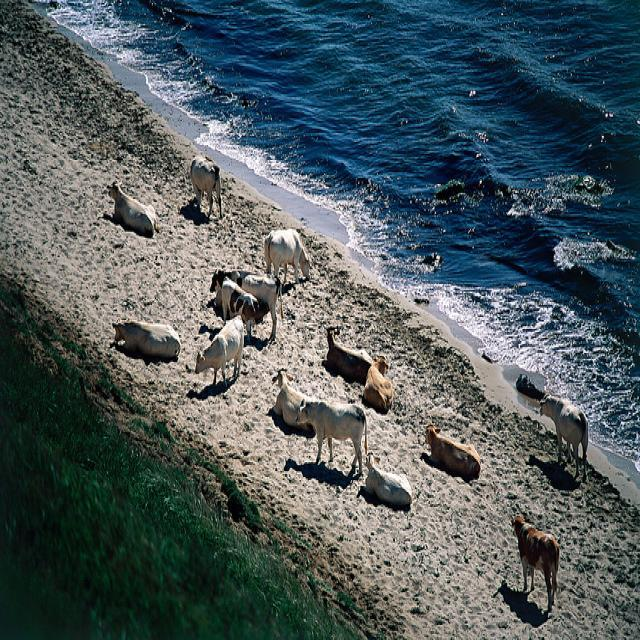cow: (244, 265, 569, 601), (293, 395, 366, 474), (208, 265, 277, 341), (511, 510, 557, 610), (538, 390, 587, 480), (194, 312, 248, 392), (102, 179, 156, 235), (271, 366, 314, 434), (110, 315, 180, 356), (362, 449, 412, 506), (324, 327, 372, 383), (264, 229, 309, 283), (189, 153, 222, 216), (219, 278, 259, 323), (363, 354, 393, 410)
